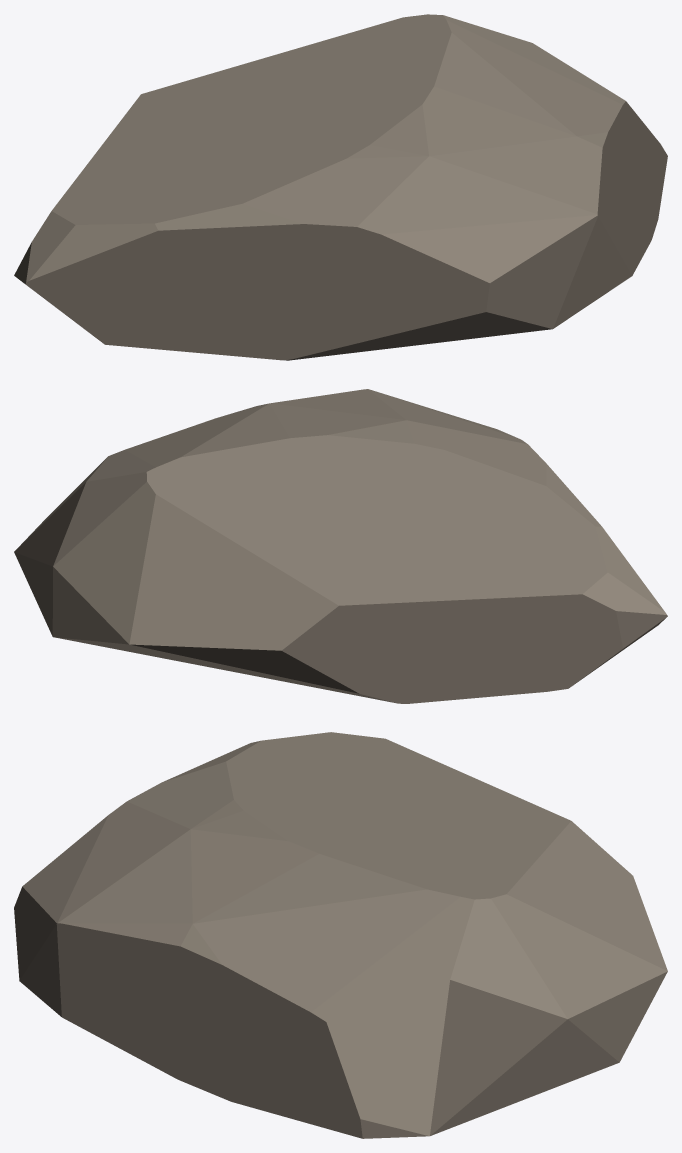
Rendered from World_RockFlat.fbx.
3 renders of one model, top to bottom at view 1: azimuth 30°, elevation 25°; view 2: azimuth 150°, elevation 25°; view 3: azimuth 270°, elevation 25°, orthographic. The views are drawn at different scales.
Visible parts, largest first — view 1: RockTop, RockSide; view 2: RockTop, RockSide; view 3: RockTop, RockSide.
Boxes of the visible parts, left/top/right/bottom form: RockTop: left=26, top=14, right=625, bottom=282; RockSide: left=14, top=101, right=667, bottom=360; RockTop: left=14, top=389, right=666, bottom=650; RockSide: left=14, top=482, right=667, bottom=703; RockTop: left=22, top=732, right=667, bottom=1136; RockSide: left=14, top=886, right=667, bottom=1138.
Bounding box in the file's own units: 743 × 157 × 601.
